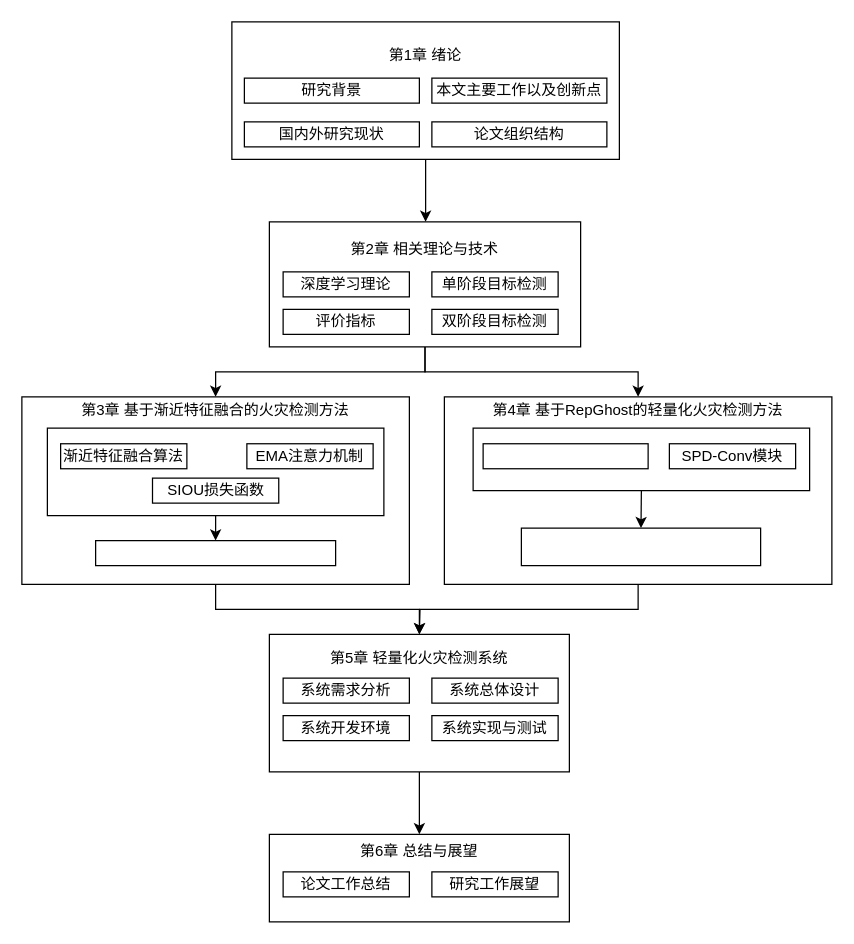
Image size: 854x944. Some labels were removed from this diagram. The centre of each missing label's shape, as x and y in pixels:
"结构重参数化Ghost模块" goes at [565,455].
"解决火焰特征易受影响问题" goes at [215,552].
"解决计算复杂度增加问题和保留小目标火焰细粒度信息" goes at [640,546].
